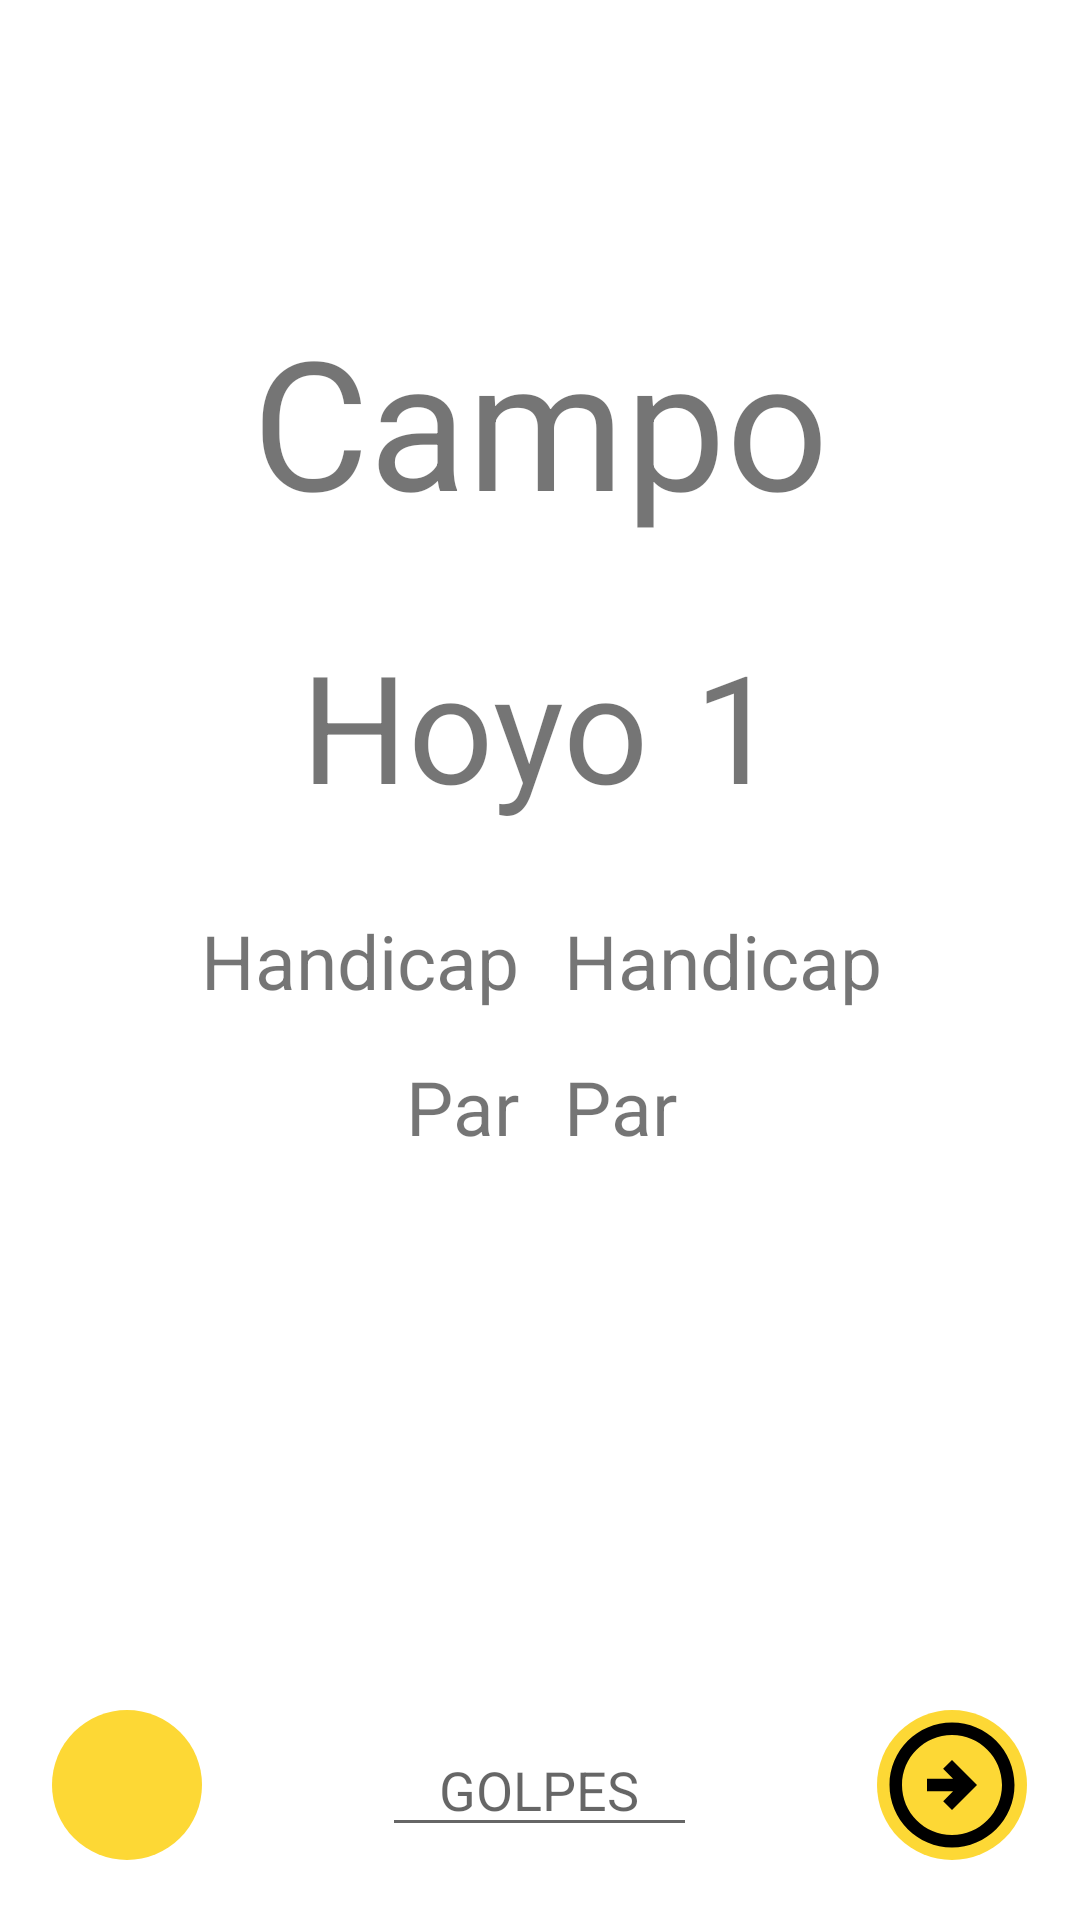

Icons on this 1080w x 1920h Android screen, each with its box as (left=x1, top=y1, right=x2, bottom=y2):
arrow circle right: (left=877, top=1710, right=1027, bottom=1860)
